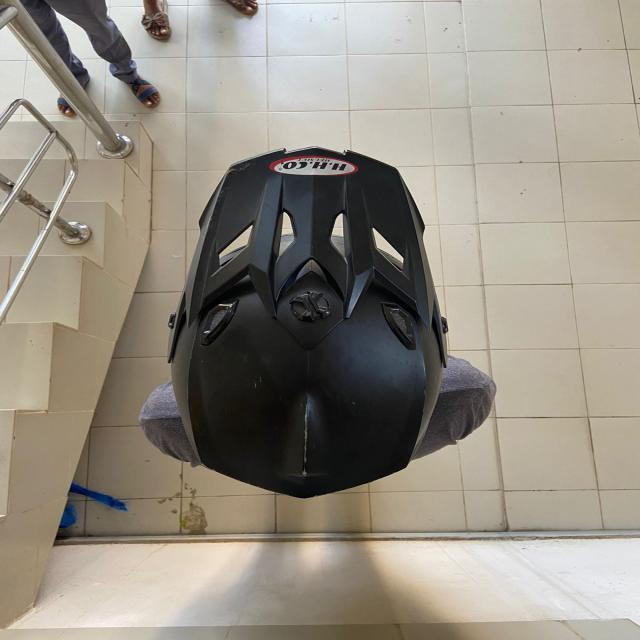helmet: (134, 95, 508, 509)
